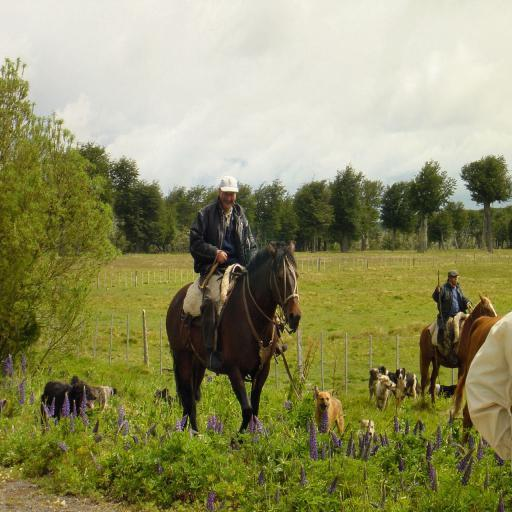horse: (164, 238, 302, 444), (418, 288, 496, 412)
